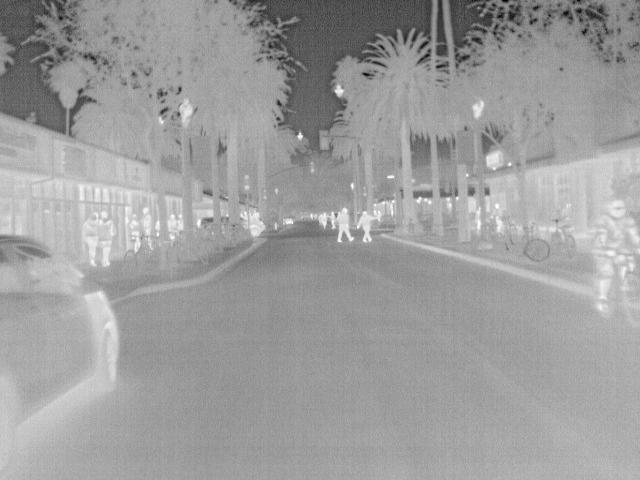car: (1, 230, 119, 475), (242, 216, 268, 236), (282, 214, 296, 225)
person: (592, 199, 639, 314), (96, 210, 115, 266), (82, 212, 101, 266), (125, 212, 144, 252), (357, 209, 378, 245), (335, 206, 355, 243), (489, 202, 506, 234), (142, 204, 155, 237), (473, 206, 485, 234), (166, 214, 178, 239), (327, 210, 337, 231), (321, 211, 330, 231), (177, 212, 186, 231)
